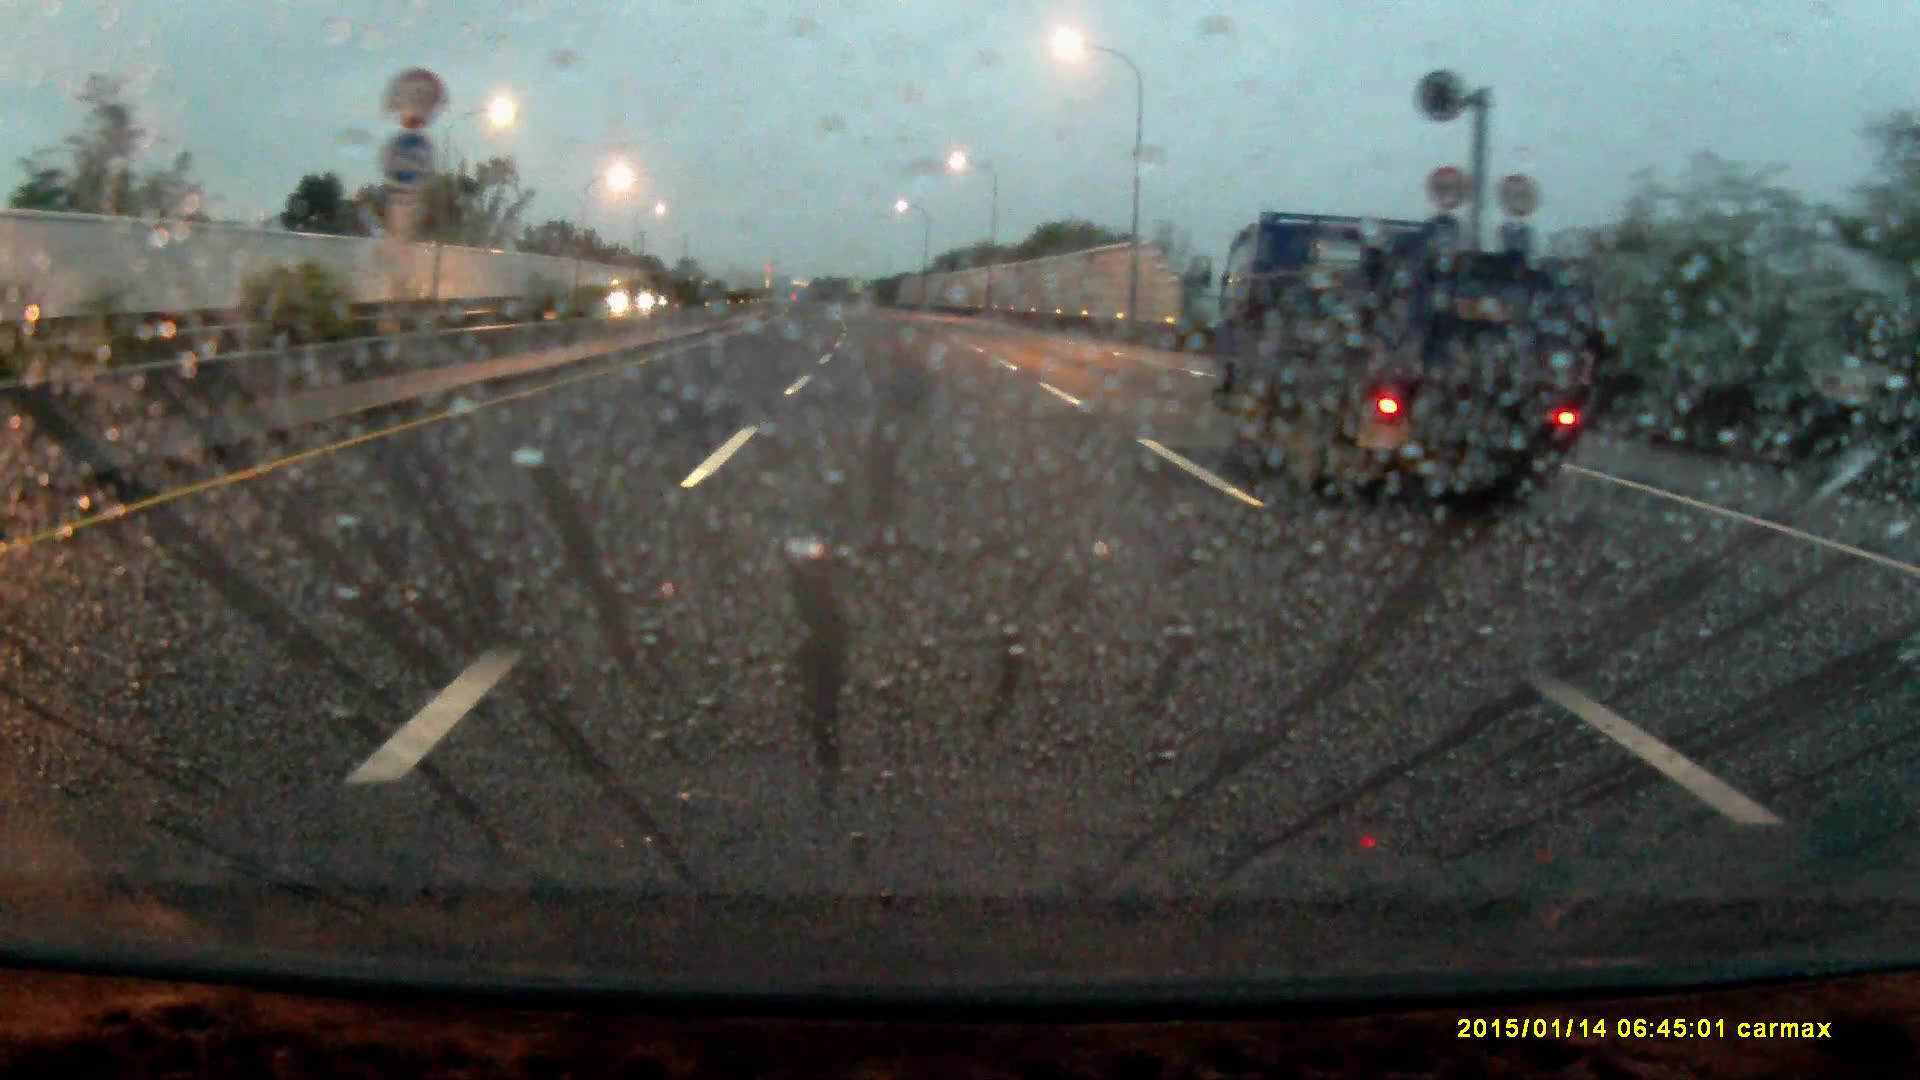vehicle: (1215, 203, 1621, 531)
